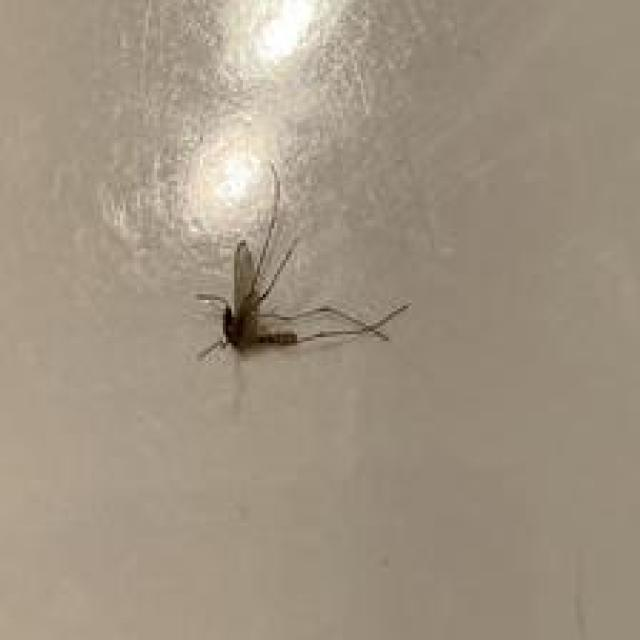Culex: (193, 160, 410, 366)
